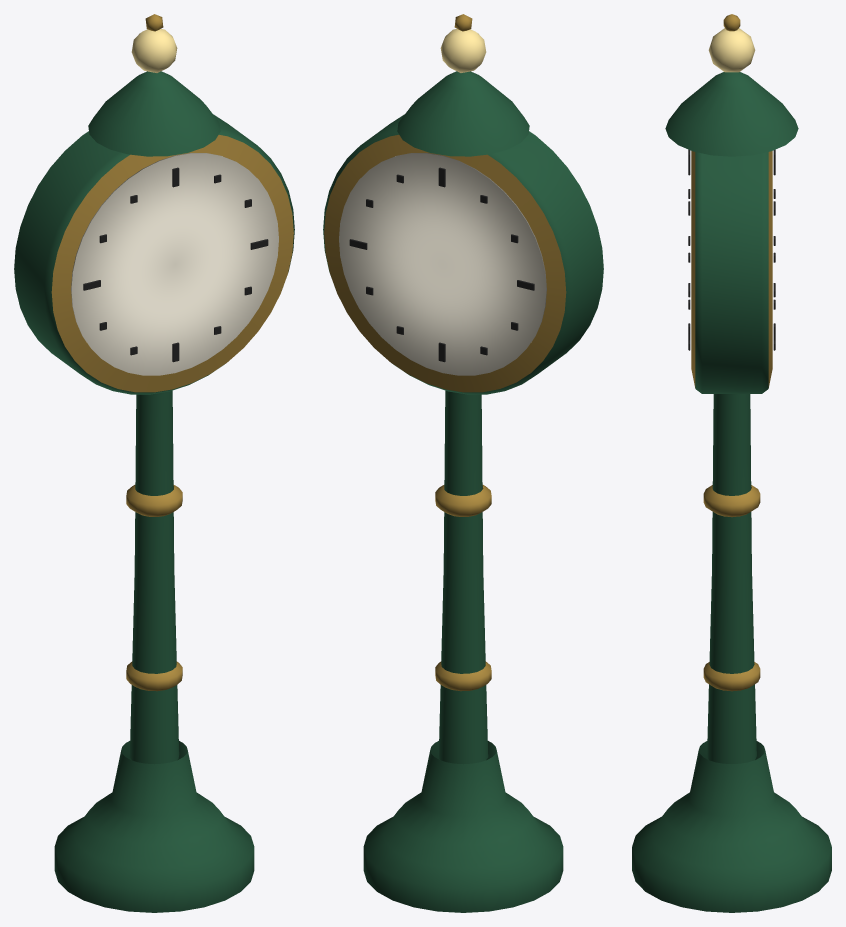
Rendered from park_clock.glb.
3 renders of one model, left to right at view 1: azimuth 30°, elevation 25°; view 2: azimuth 150°, elevation 25°; view 3: azimuth 270°, elevation 25°, orthographic.
Parts seen in each view (by area): view 1: park_clock_main, park_clock_glow; view 2: park_clock_main, park_clock_glow; view 3: park_clock_main, park_clock_glow.
Boxes of the visible parts, box(x1,y1,x2,y2) form: park_clock_main: box(14, 14, 294, 912); park_clock_glow: box(131, 29, 177, 72); park_clock_main: box(323, 14, 603, 912); park_clock_glow: box(440, 29, 486, 72); park_clock_main: box(632, 14, 831, 912); park_clock_glow: box(708, 28, 755, 72).
Bounding box in the file's own units: 0.87 × 2.84 × 0.6.
